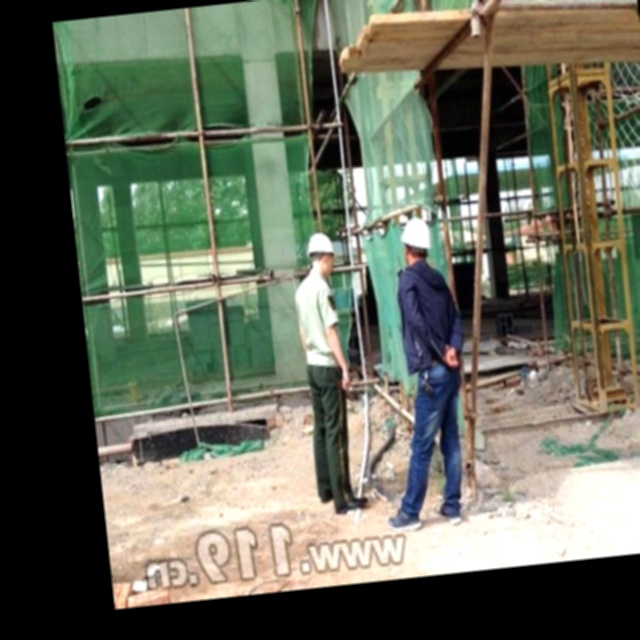Con_Casco: (398, 218, 433, 262), (304, 230, 336, 272)
Sin_Chaleco: (394, 262, 462, 372), (292, 275, 345, 367)
